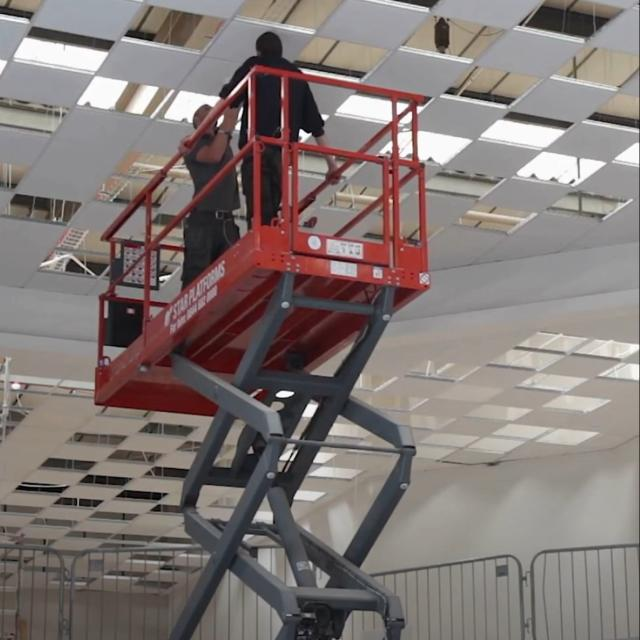2m above platform: (91, 60, 438, 637)
